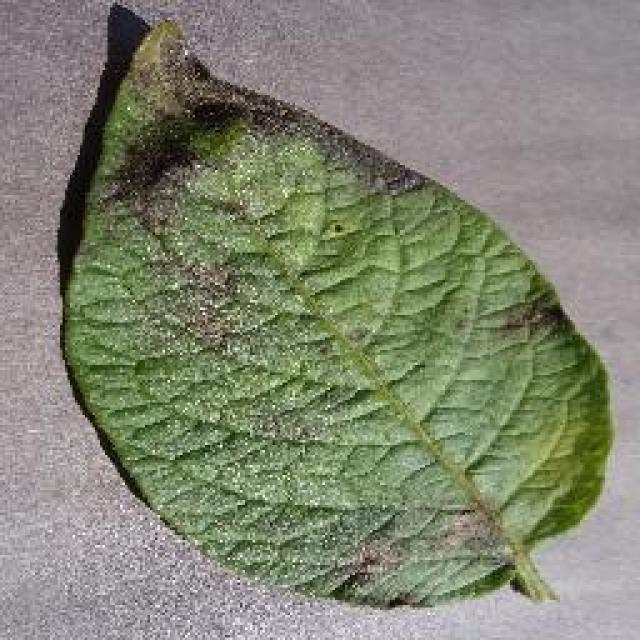late_blight: (52, 5, 618, 613)
